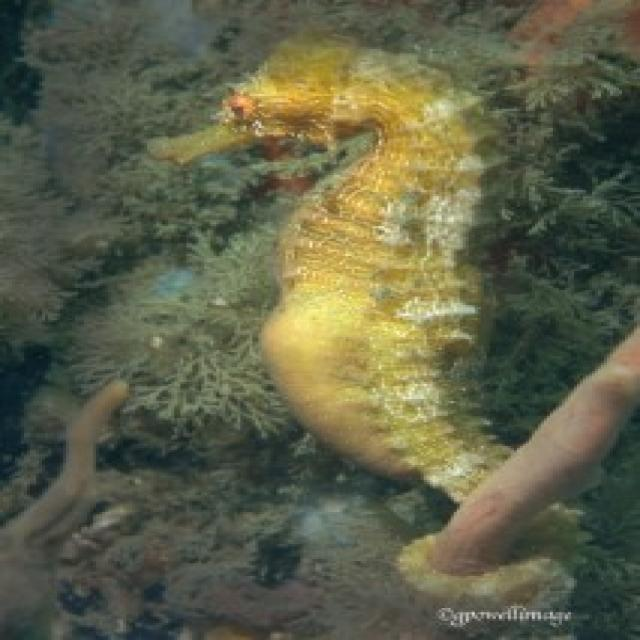Seahorse: (144, 33, 494, 473)
